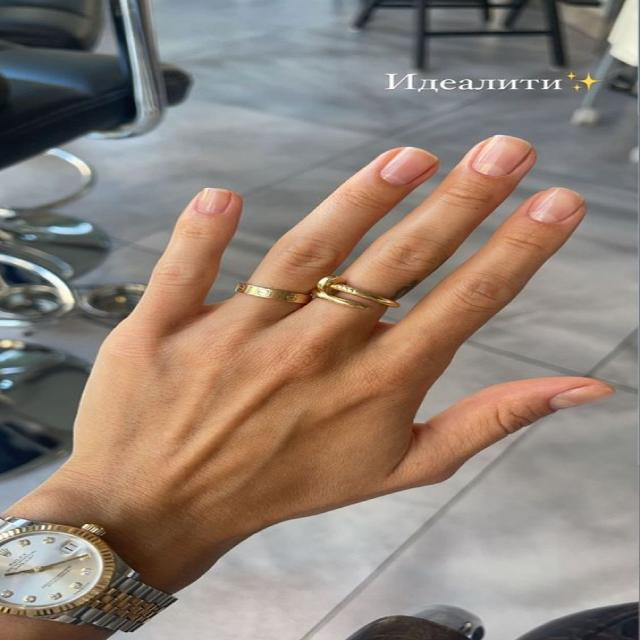Fingernail: (473, 135, 532, 177), (381, 147, 438, 184), (529, 187, 584, 224), (550, 385, 614, 411), (196, 189, 231, 216)
